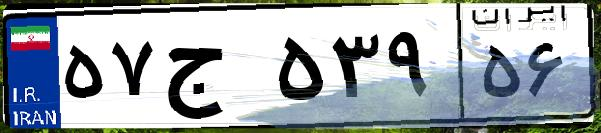3: (330, 28, 385, 110)
5: (270, 28, 330, 110), (57, 26, 110, 100), (475, 38, 525, 113)
6: (525, 38, 570, 115)
7: (110, 28, 158, 98)
9: (385, 28, 445, 110)
ج: (158, 20, 270, 120)
